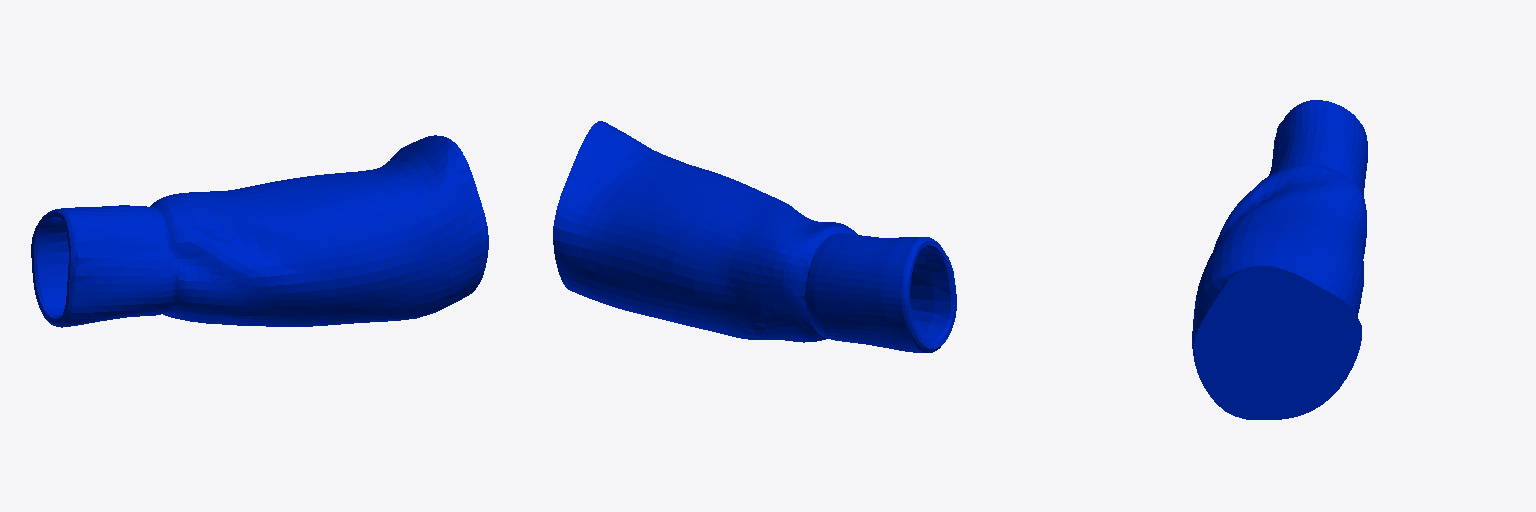
The model's file is lowerarm_r_old.obj.
3 views of the same model, side by side, from view 1: azimuth 30°, elevation 25°; view 2: azimuth 150°, elevation 25°; view 3: azimuth 270°, elevation 25° (orthographic).
Parts seen in each view (by area): view 1: lowerarm_r_torso.005; view 2: lowerarm_r_torso.005; view 3: lowerarm_r_torso.005.
Boxes of the visible parts, <box> form: lowerarm_r_torso.005: <box>31,135,488,327</box>; lowerarm_r_torso.005: <box>553,121,956,352</box>; lowerarm_r_torso.005: <box>1192,100,1367,419</box>.
Size of the model in its own units: 0.236 by 0.095 by 0.0946.